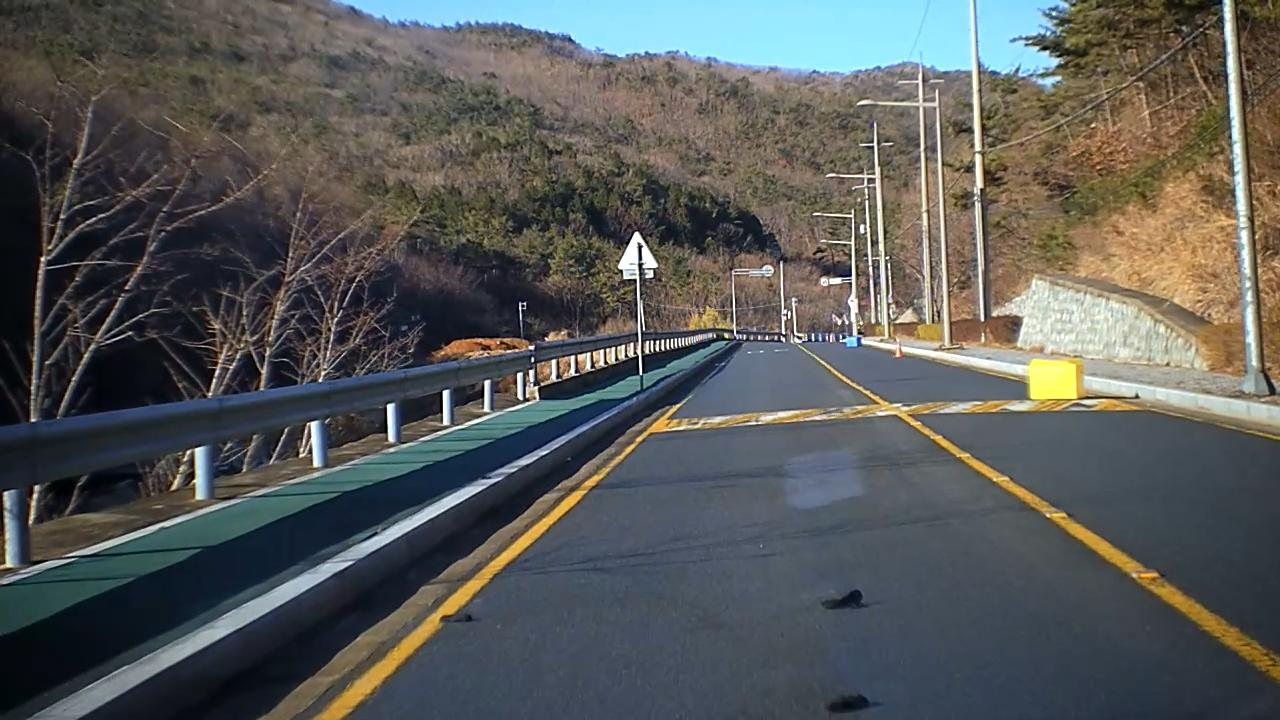stone: (819, 583, 866, 613), (822, 688, 872, 716), (440, 606, 475, 625)
